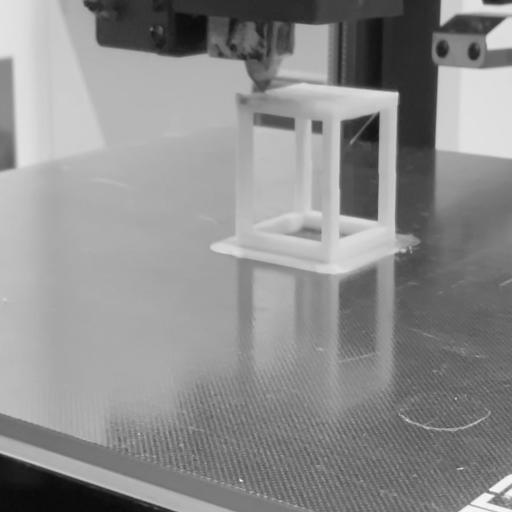spaghetti_and_stringing: (346, 115, 380, 158)
